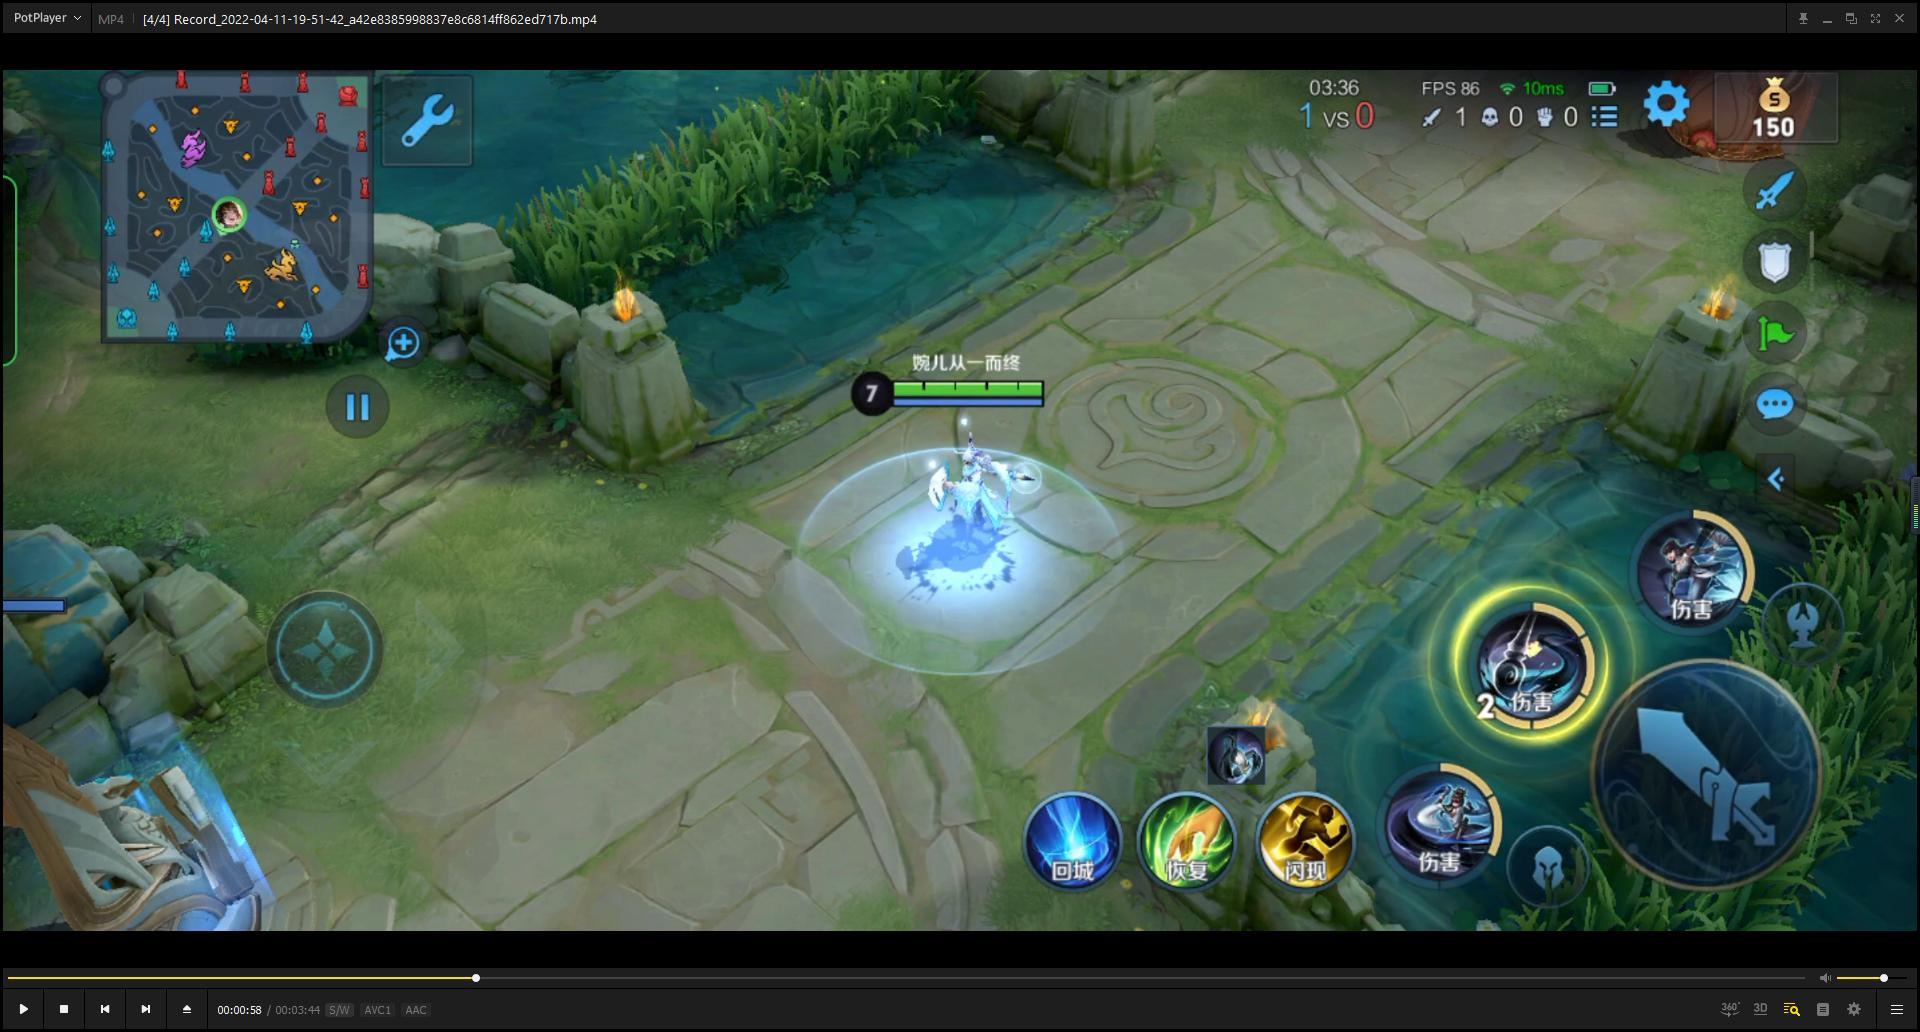Hero: (873, 412, 1060, 605)
Tower: (13, 644, 272, 939), (1615, 76, 1836, 180)
